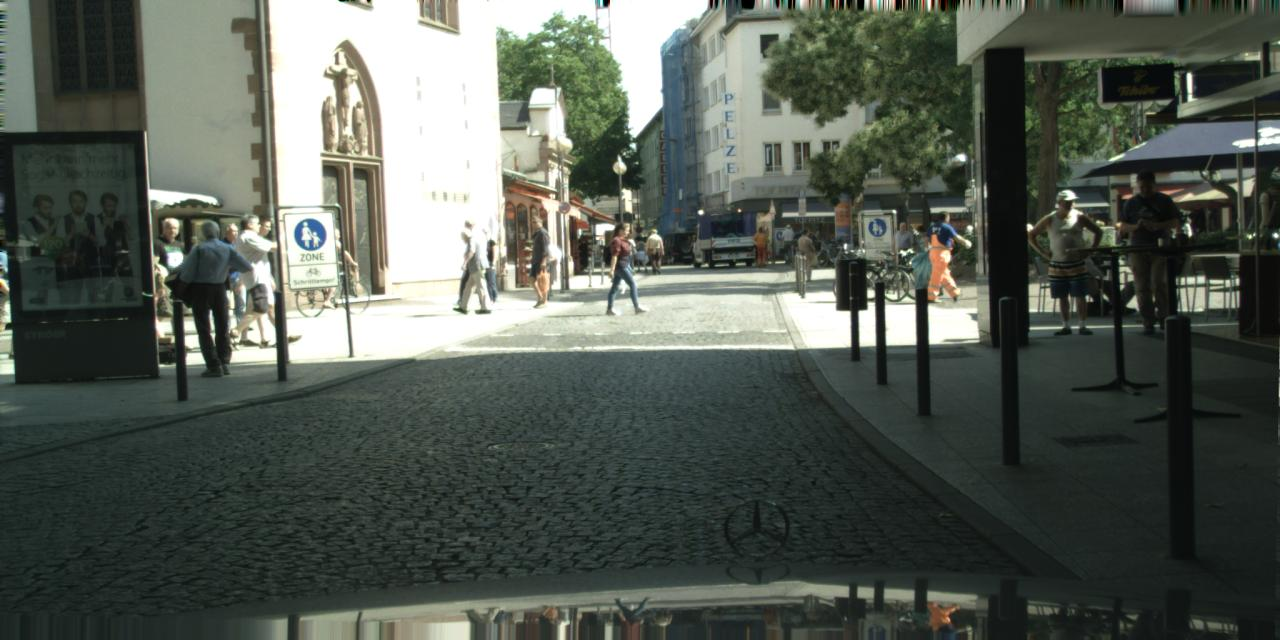ped: (1120, 169, 1186, 333), (185, 219, 248, 375), (1040, 188, 1100, 334), (0, 216, 56, 360), (222, 213, 277, 348), (141, 216, 196, 350), (121, 222, 173, 350), (241, 219, 293, 345), (1244, 166, 1279, 316), (210, 222, 254, 330), (451, 217, 490, 312), (606, 222, 644, 314), (520, 215, 558, 306), (927, 210, 964, 301), (471, 227, 505, 309), (314, 226, 347, 308), (452, 230, 483, 306), (889, 220, 913, 278), (914, 225, 937, 281), (794, 230, 815, 281), (645, 228, 663, 273), (1178, 215, 1196, 258), (1101, 219, 1117, 259), (753, 227, 769, 266), (780, 224, 796, 263), (633, 235, 648, 271), (906, 223, 920, 260)
